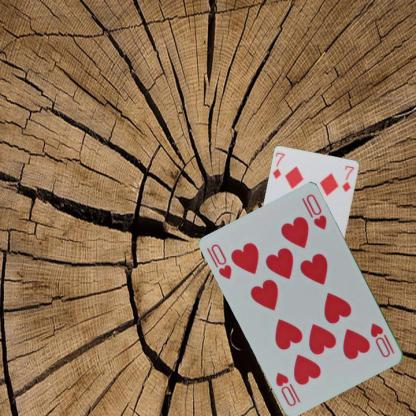10h: (367, 320, 396, 359), (209, 241, 233, 281)
7d: (270, 150, 286, 180)
